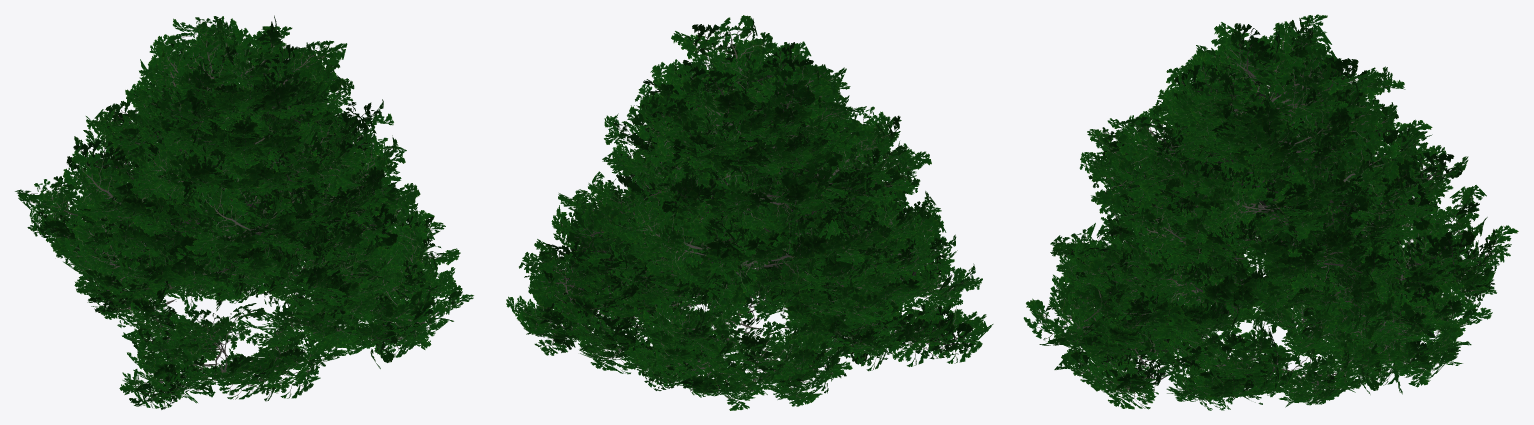
3 views of the same model, side by side, from view 1: azimuth 30°, elevation 25°; view 2: azimuth 150°, elevation 25°; view 3: azimuth 270°, elevation 25° (orthographic). The views are drawn at different scales.
Parts seen in each view (by area): view 1: SM_BM_Oak_Tree_02_Canopy_LOD0; view 2: SM_BM_Oak_Tree_02_Canopy_LOD0; view 3: SM_BM_Oak_Tree_02_Canopy_LOD0.
Boxes of the visible parts, x1,y1,x2,y2 form: SM_BM_Oak_Tree_02_Canopy_LOD0: (15,15,473,409); SM_BM_Oak_Tree_02_Canopy_LOD0: (506,15,993,410); SM_BM_Oak_Tree_02_Canopy_LOD0: (1023,14,1518,410).
Size of the model in its own units: 21.24 by 18.16 by 22.71.
1 material, 1 textured.
